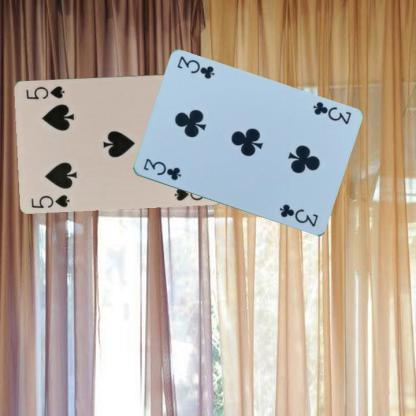3c: (140, 155, 182, 182), (310, 99, 352, 126)
5s: (29, 192, 72, 210)
